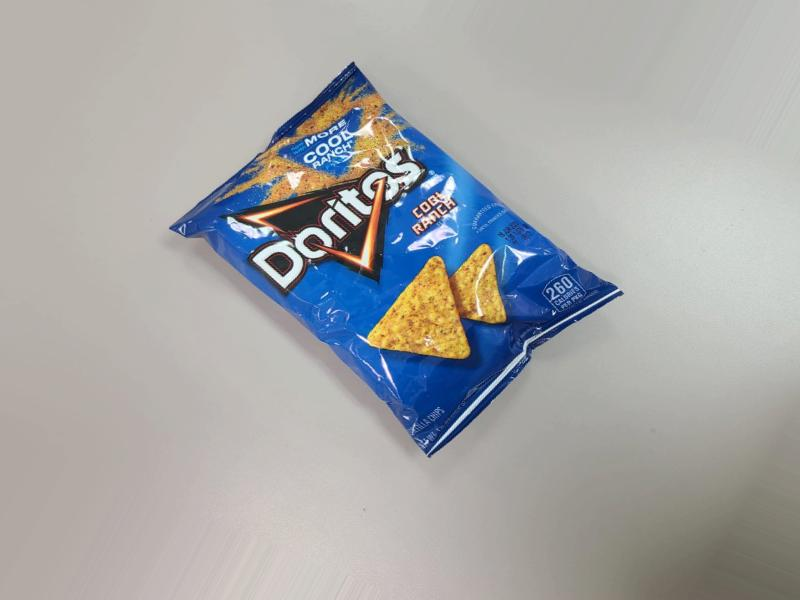doritos: (229, 81, 614, 412)
